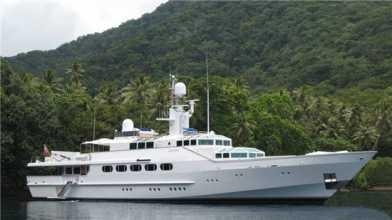yacht: (22, 63, 390, 201)
